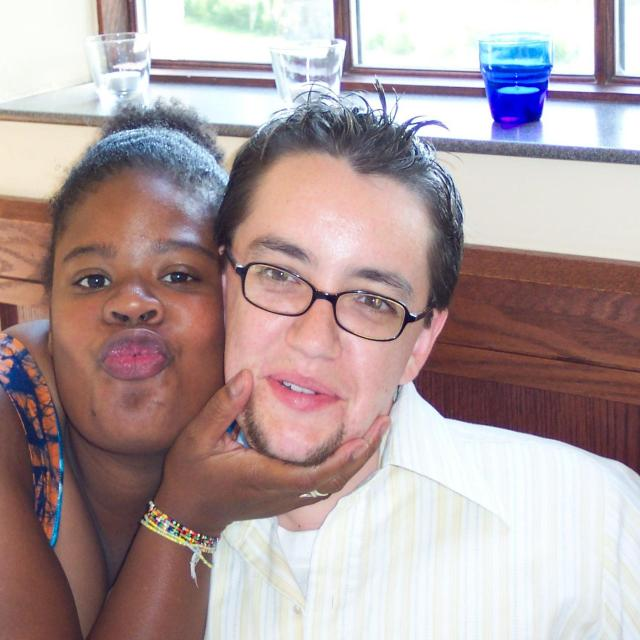no-glass: (255, 258, 396, 324), (72, 265, 206, 293)
